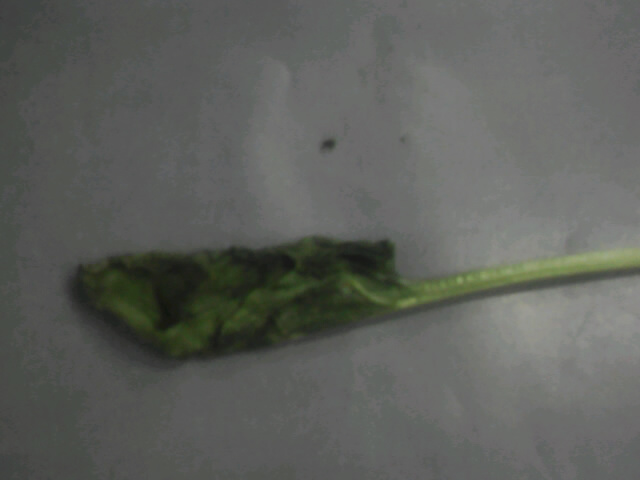yellow: (46, 213, 615, 382)
